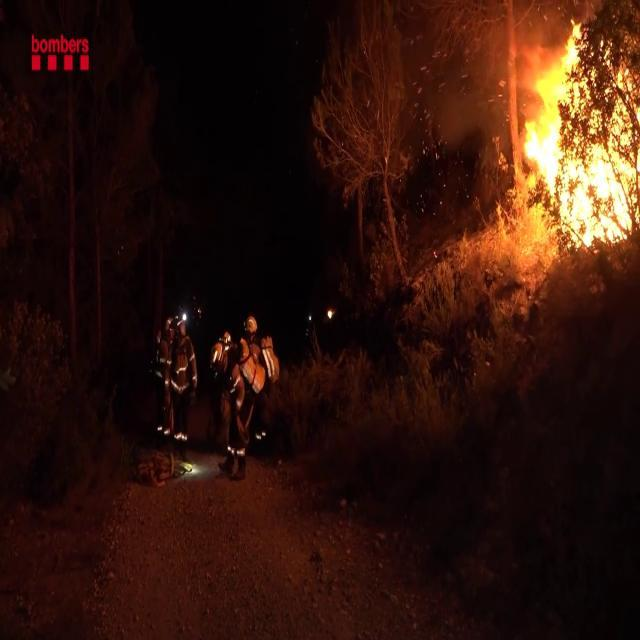Fire: (513, 9, 640, 245)
